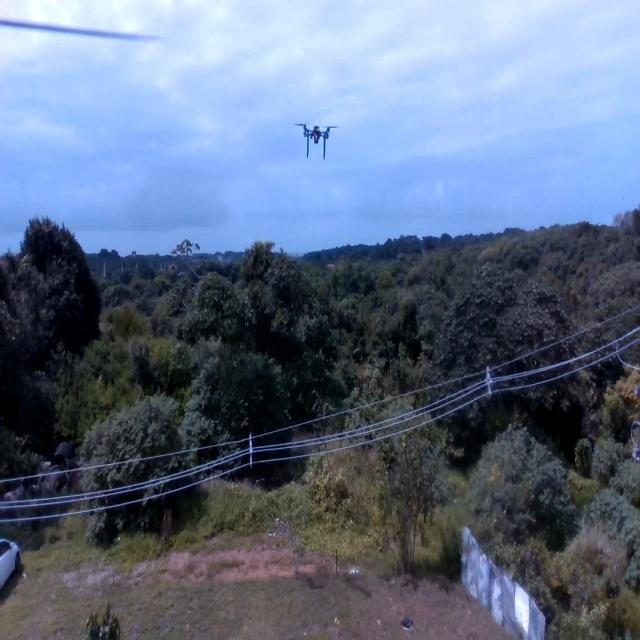-uav-: (289, 107, 344, 166)
